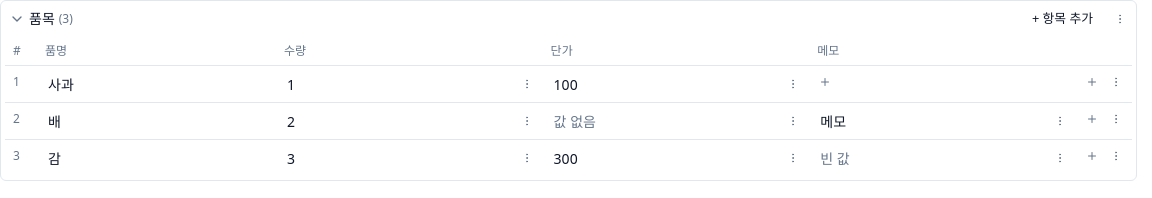
Test: 배열 표 빠진 칸 › ＋ 를 누르면 그 필드를 넣는 편집이 나가고 새 칸의 입력에 포커스가 간다
Click the button with test id "job-review-tree-table-button-add-cell" at (825, 82), box [813,70,837,94]
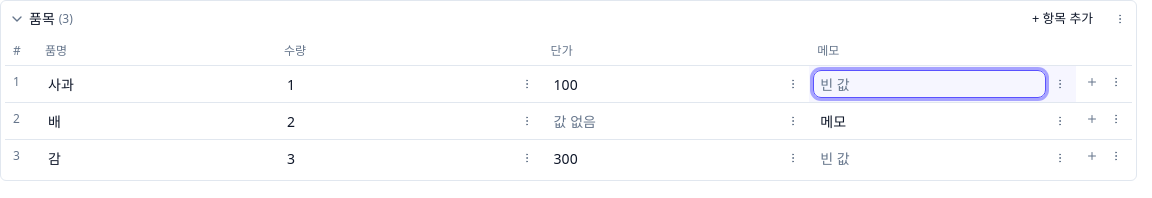
Now the button with test id "job-review-tree-table-button-add-cell" is gone
